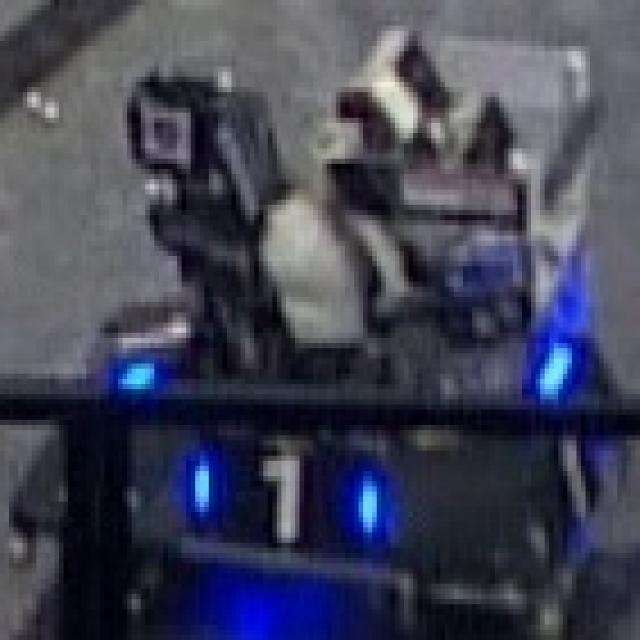B1: (186, 440, 377, 548)
